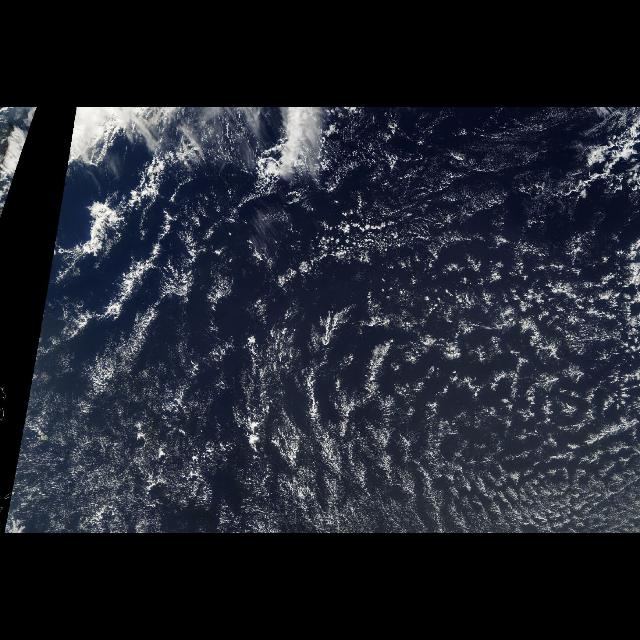Gravel: (226, 292, 640, 534)
Sugar: (268, 273, 630, 497)
